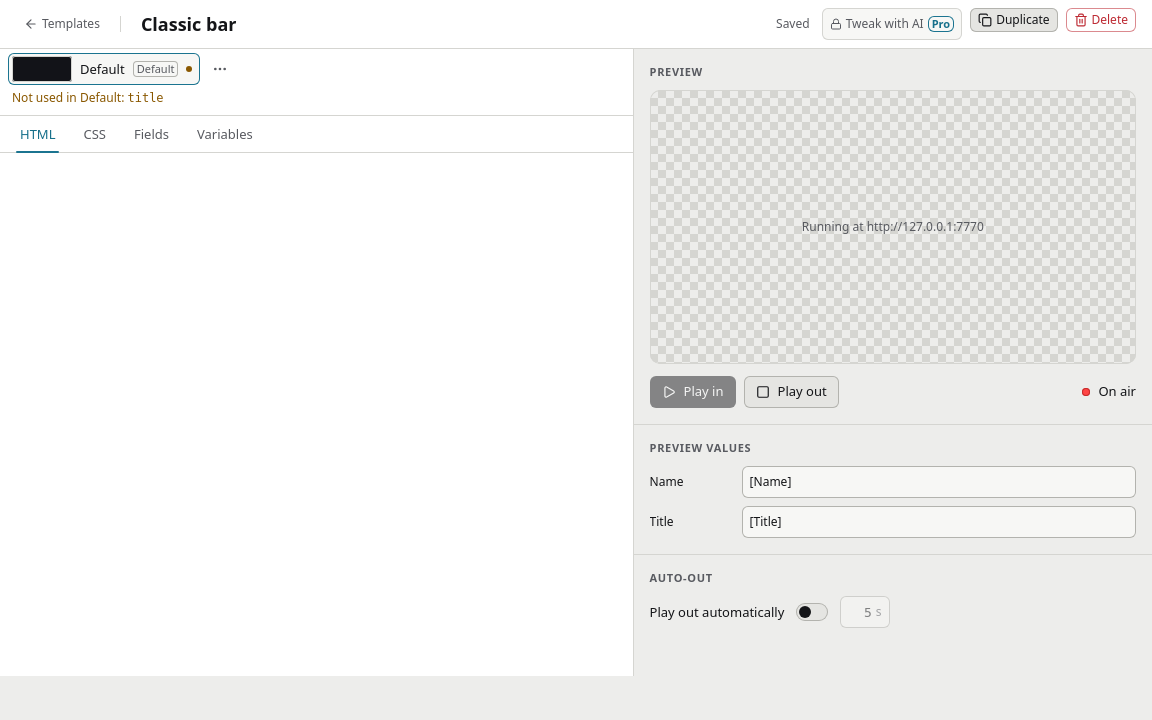
Test: variables values form › a colour change drafts variableValues and saves it as the variant's value
This screenshot has width=1152, height=720.
Step 1. Click the tab "Variables" → (225, 134), box [185,116,265,152]
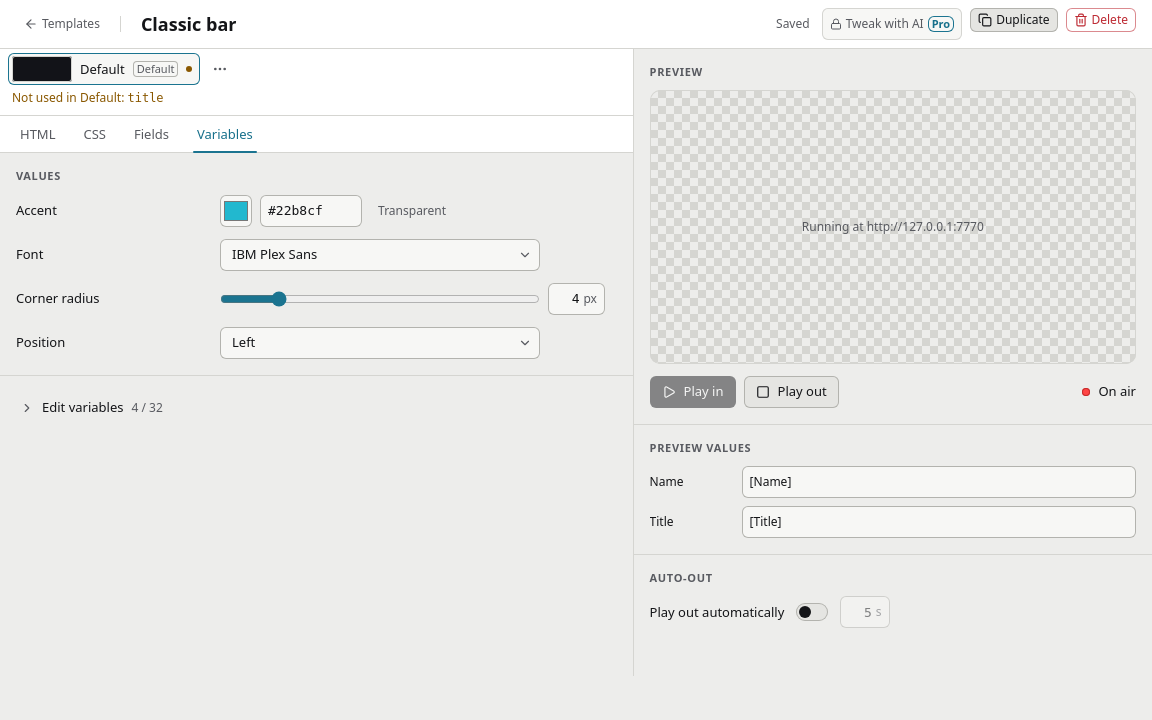
Expected: the colour field named "Accent color picker" holds "#22b8cf"
Step 2. Type "#ff0000" into the colour field named "Accent color picker" → (236, 211), box [220,195,252,227]
Wait 800 ms
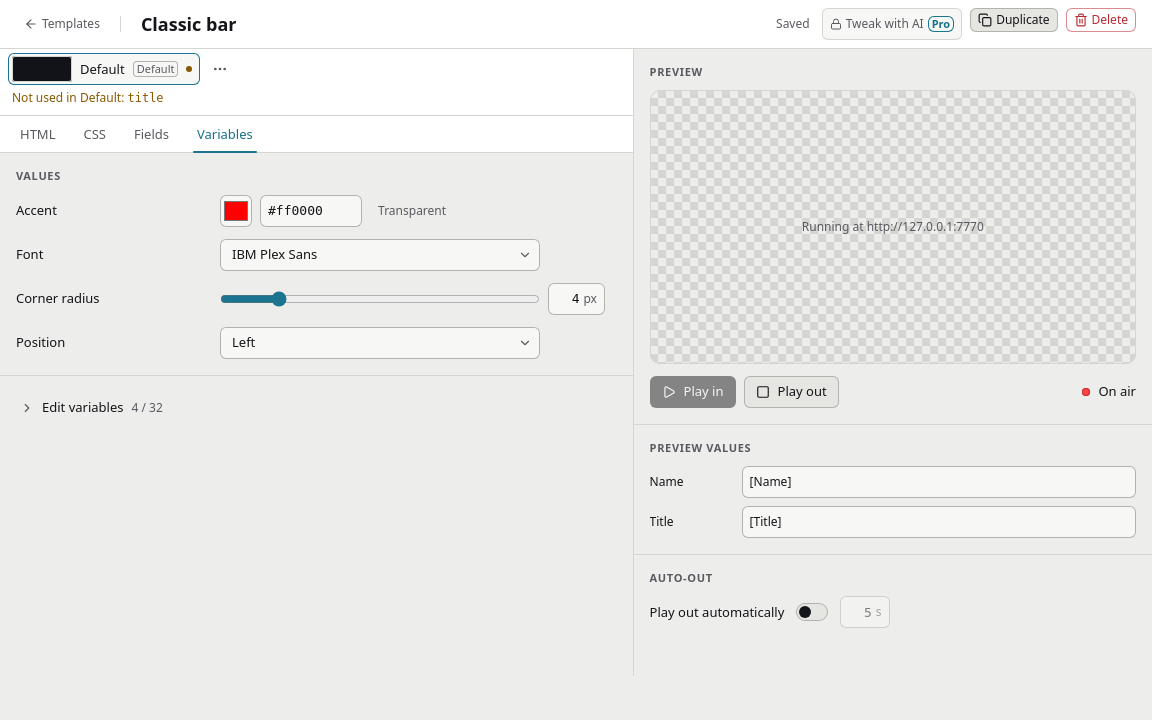
Expected: the field labelled "Accent" holds "#ff0000", [260,195,362,227]
